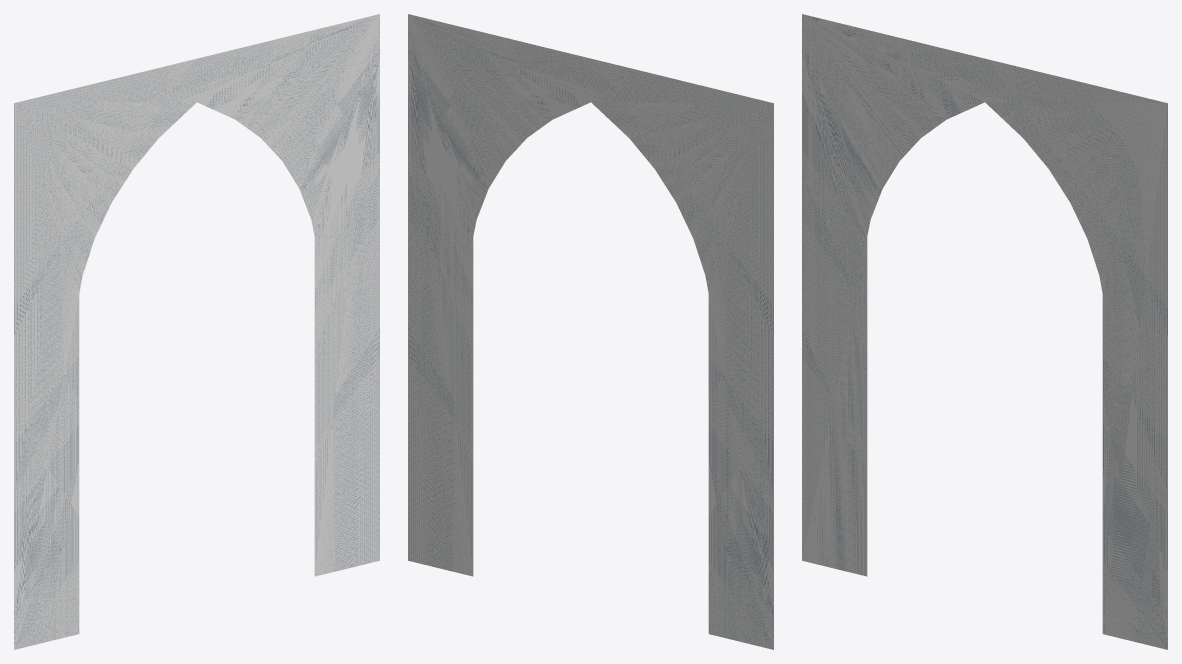
File: doorC.fbx
The picture shows the model from 3 angles, left to right: view 1: azimuth 30°, elevation 25°; view 2: azimuth 150°, elevation 25°; view 3: azimuth 330°, elevation 25°; orthographic projection.
Visible parts, largest first — view 1: Model; view 2: Model; view 3: Model.
Boxes of the visible parts, x1,y1,x2,y2 form: Model: [14, 14, 379, 649]; Model: [408, 14, 773, 649]; Model: [802, 14, 1167, 649].
Bounding box in the file's own units: 5.6 × 8 × 2.42e-15.
